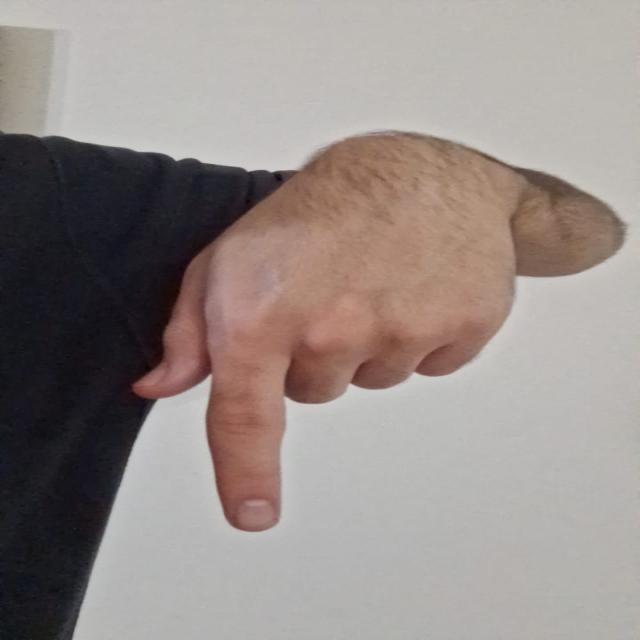Q: (124, 132, 518, 538)
